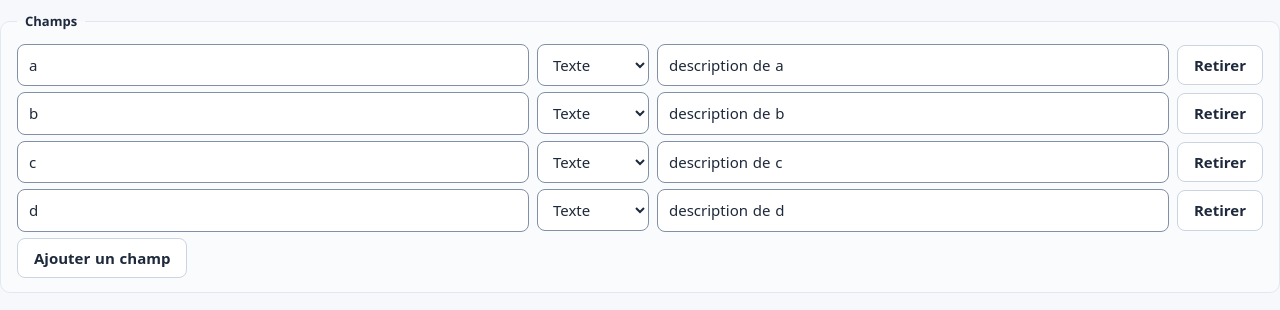
Test case: lignes éditables sans identifiant propre (clé d'index) : ce que les essais établissent › retirer une ligne du milieu conserve les valeurs des autres lignes, dans l'ordre
Step 1. Click the button with aria-label "Retirer le champ b" → x=1220, y=113, box top-left (1177, 93), bottom-right (1263, 134)
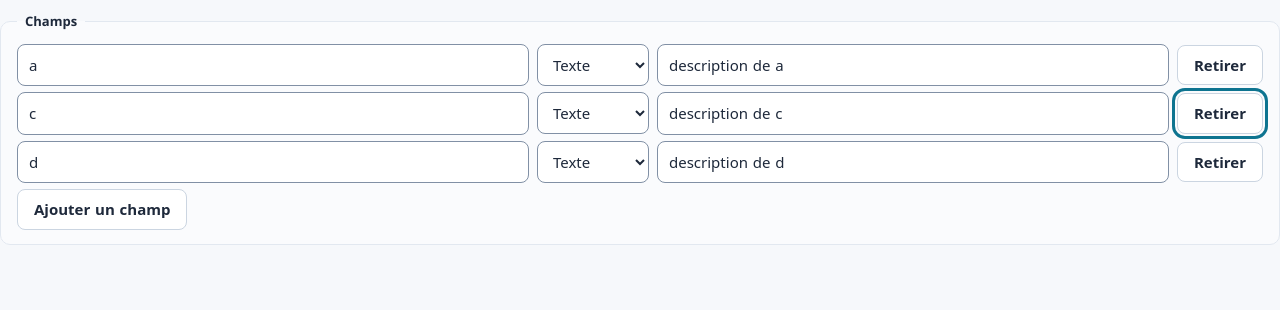
Result: the 4th field with placeholder "Description (facultatif)" holds "description de c" at top-left (657, 92), bottom-right (1169, 134)
